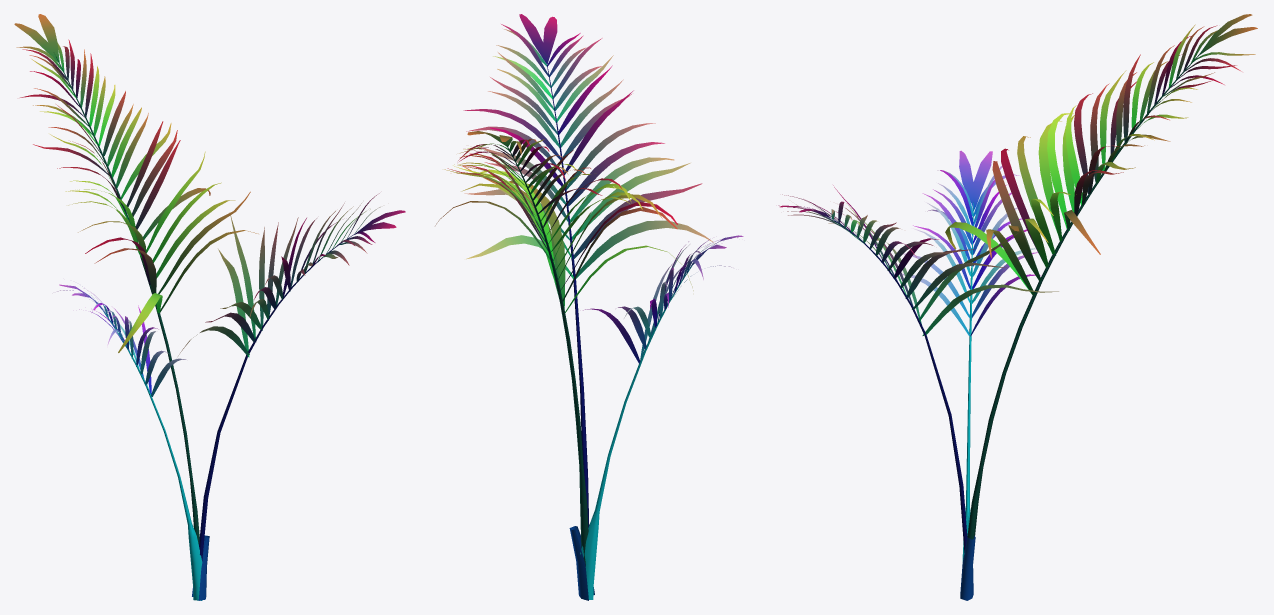
File: ukgkcilia_VarB_LOD2.fbx
3 views of the same model, side by side, from view 1: azimuth 30°, elevation 25°; view 2: azimuth 150°, elevation 25°; view 3: azimuth 270°, elevation 25° (orthographic). The views are drawn at different scales.
Visible parts, largest first — view 1: _z32s_VarB_LOD3; view 2: _z32s_VarB_LOD3; view 3: _z32s_VarB_LOD3.
Boxes of the visible parts, x1=… form: _z32s_VarB_LOD3: x1=14, y1=14, x2=405, y2=600; _z32s_VarB_LOD3: x1=435, y1=14, x2=743, y2=600; _z32s_VarB_LOD3: x1=778, y1=14, x2=1257, y2=600.
Bounding box in the file's own units: 95.88 × 173 × 137.
